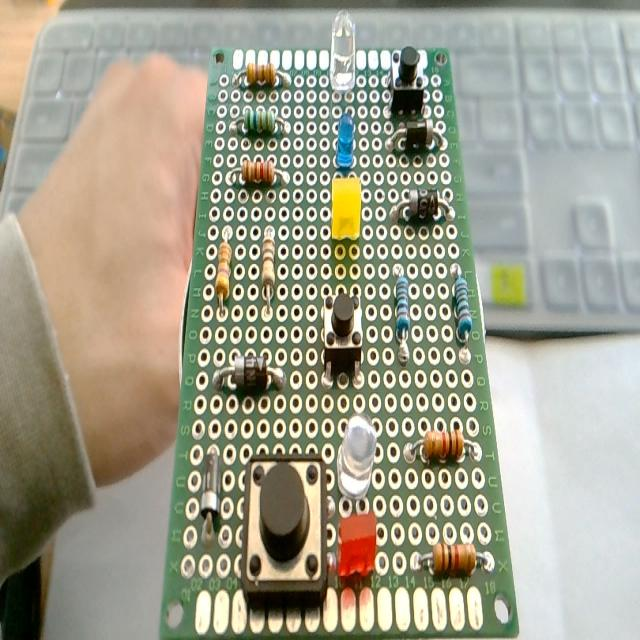diode: (212, 351, 286, 395), (392, 186, 452, 221), (199, 450, 221, 543), (387, 120, 442, 153)
led: (337, 413, 377, 499), (336, 508, 379, 580), (329, 8, 356, 92), (331, 176, 362, 241), (336, 112, 355, 168)
resistor: (406, 428, 480, 465), (449, 262, 473, 360), (415, 543, 485, 576), (233, 158, 290, 190), (394, 269, 411, 363), (230, 110, 288, 136), (233, 62, 290, 88), (452, 268, 472, 342), (214, 232, 232, 314), (260, 225, 276, 317)
switch: (240, 452, 328, 606), (322, 289, 364, 384), (388, 45, 427, 116)
